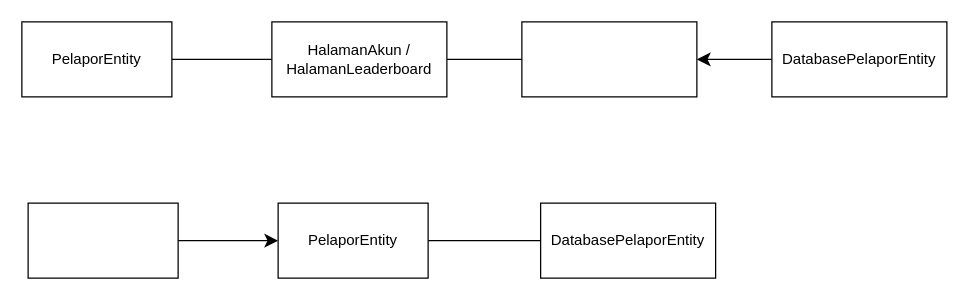
This 969x300 diagram has some shape labels left out. The box of each missing label's shape, as (x1, y1, x2, y2) in pixels:
LeaderboardController: (521, 21, 697, 97)
TanggapanController: (27, 202, 178, 278)
